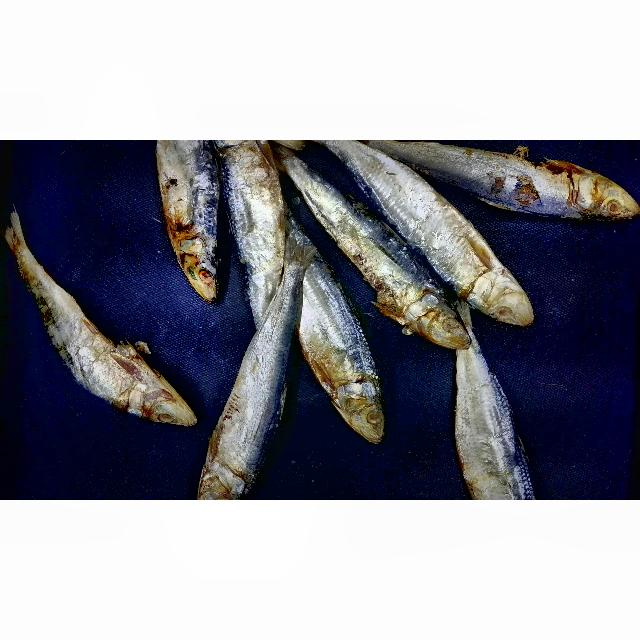Grade_B_Body: (446, 363, 541, 500), (53, 272, 139, 421), (365, 168, 510, 256), (222, 301, 300, 458), (294, 191, 427, 276), (449, 142, 570, 219), (285, 262, 384, 352), (218, 164, 291, 277), (149, 159, 225, 237)
Grade_B_Head: (323, 365, 401, 447), (467, 267, 540, 330), (577, 157, 640, 228), (413, 294, 479, 353), (145, 372, 202, 434), (188, 466, 256, 500)
Grade_B_Tail: (436, 297, 511, 381), (273, 148, 351, 219), (0, 196, 58, 263), (268, 241, 305, 343)
